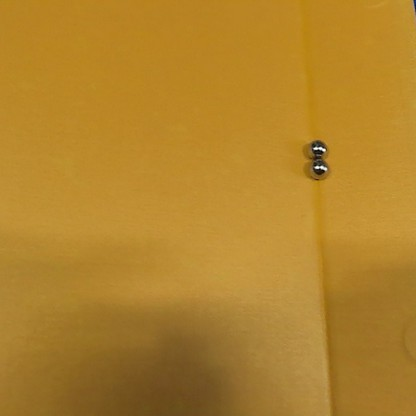ironball: (304, 158, 331, 182), (305, 135, 329, 160)
